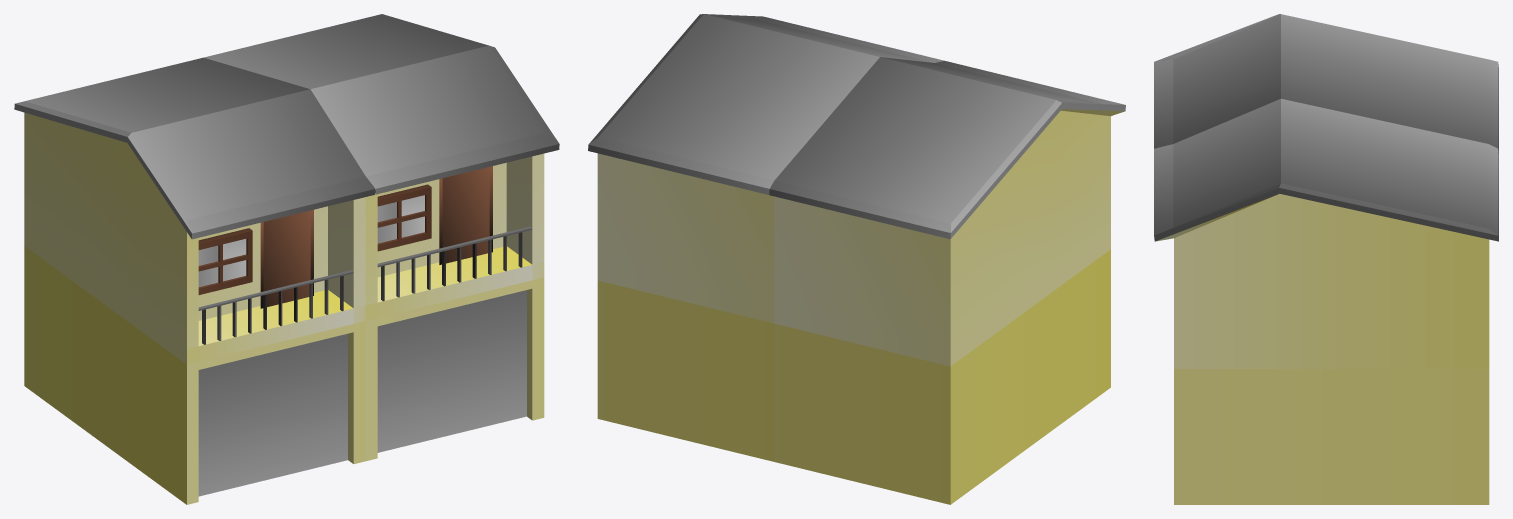
The model's file is SM_Street_House_F2_Connect.fbx.
3 renders of one model, left to right at view 1: azimuth 30°, elevation 25°; view 2: azimuth 150°, elevation 25°; view 3: azimuth 270°, elevation 25°, orthographic. The views are drawn at different scales.
Visible parts, largest first — view 1: Street_House_F2_Connect_mash; view 2: Street_House_F2_Connect_mash; view 3: Street_House_F2_Connect_mash.
Part boxes in pixels (<box>): Street_House_F2_Connect_mash: <box>14,14,559,504</box>; Street_House_F2_Connect_mash: <box>588,14,1125,504</box>; Street_House_F2_Connect_mash: <box>1154,14,1498,504</box>.
Bounding box in the file's own units: 8.22 × 7.09 × 6.89.
